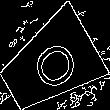O_SW: (20, 33, 79, 96)
